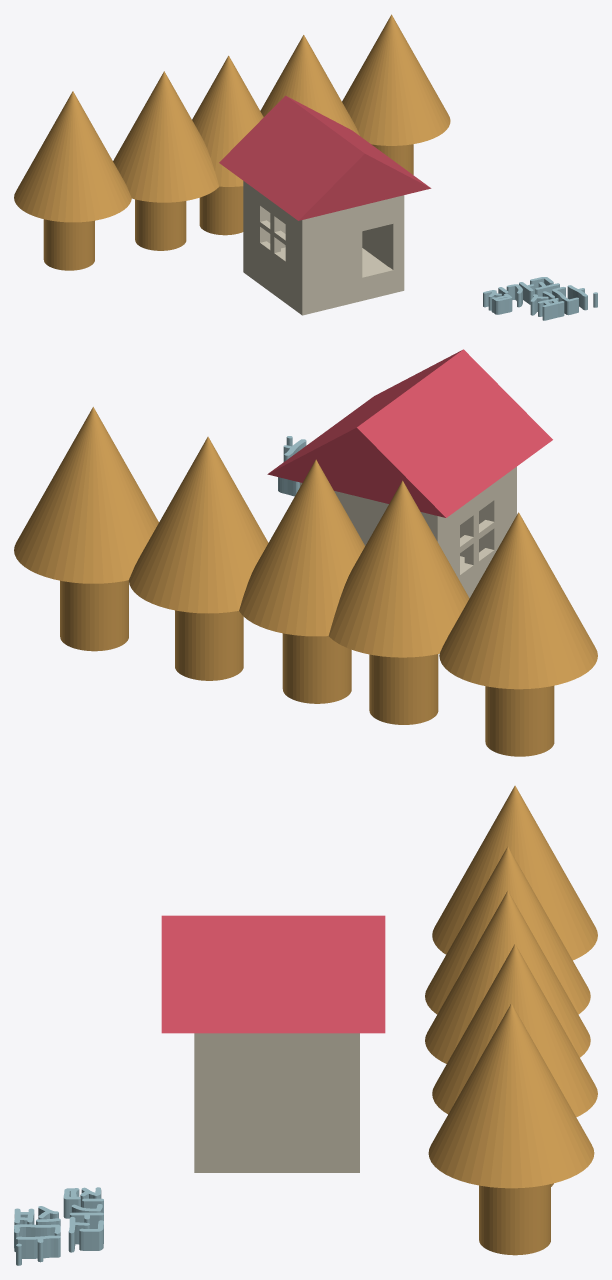
The picture shows the model from 3 angles, top to bottom: view 1: azimuth 30°, elevation 25°; view 2: azimuth 150°, elevation 25°; view 3: azimuth 270°, elevation 25°; orthographic projection. The views are drawn at different scales.
Visible parts, largest first — view 1: Mesh_Mesh_head_geo.001_lambert2SG.001; view 2: Mesh_Mesh_head_geo.001_lambert2SG.001; view 3: Mesh_Mesh_head_geo.001_lambert2SG.001.
Boxes of the visible parts, x1,y1,x2,y2 form: Mesh_Mesh_head_geo.001_lambert2SG.001: [14, 14, 597, 320]; Mesh_Mesh_head_geo.001_lambert2SG.001: [14, 349, 597, 756]; Mesh_Mesh_head_geo.001_lambert2SG.001: [14, 785, 597, 1265].
Bounding box in the file's own units: 0.189 × 0.0739 × 0.162.
